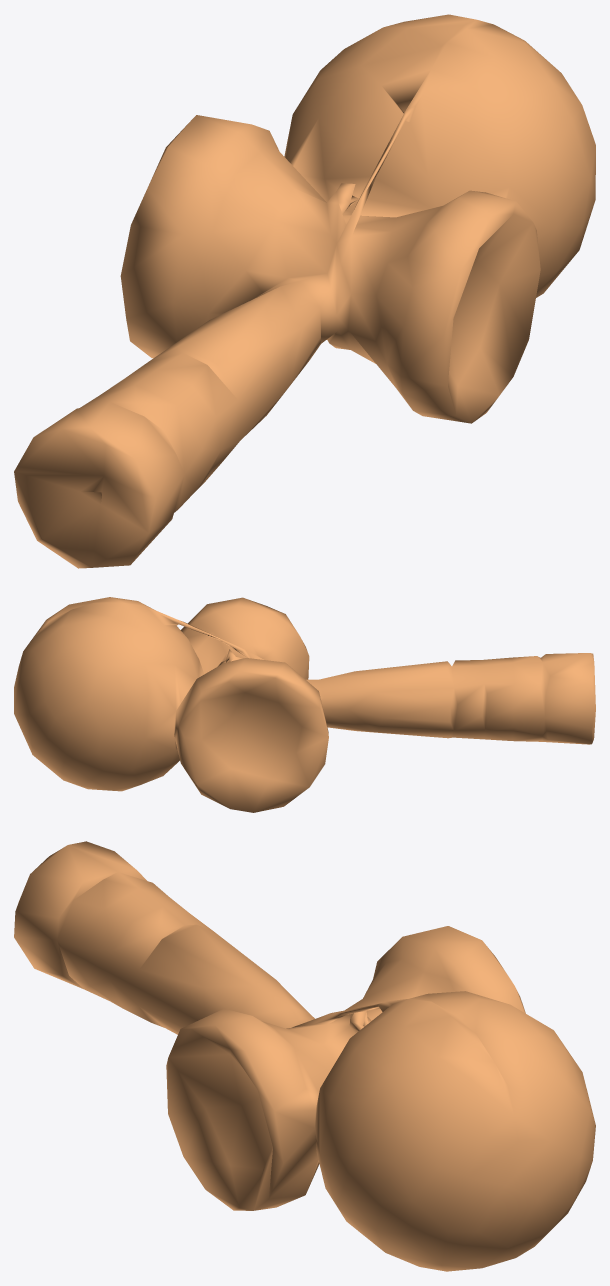
File: Bilboque.fbx
3 views of the same model, one above another, from view 1: azimuth 30°, elevation 25°; view 2: azimuth 150°, elevation 25°; view 3: azimuth 270°, elevation 25° (orthographic). The views are drawn at different scales.
Visible parts, largest first — view 1: Bilboque; view 2: Bilboque; view 3: Bilboque.
Part boxes in pixels (x1,y1,x2,y2): Bilboque: (14,14,595,568); Bilboque: (14,597,595,812); Bilboque: (14,841,595,1271).
Bounding box in the file's own units: 142 × 52.26 × 108.
